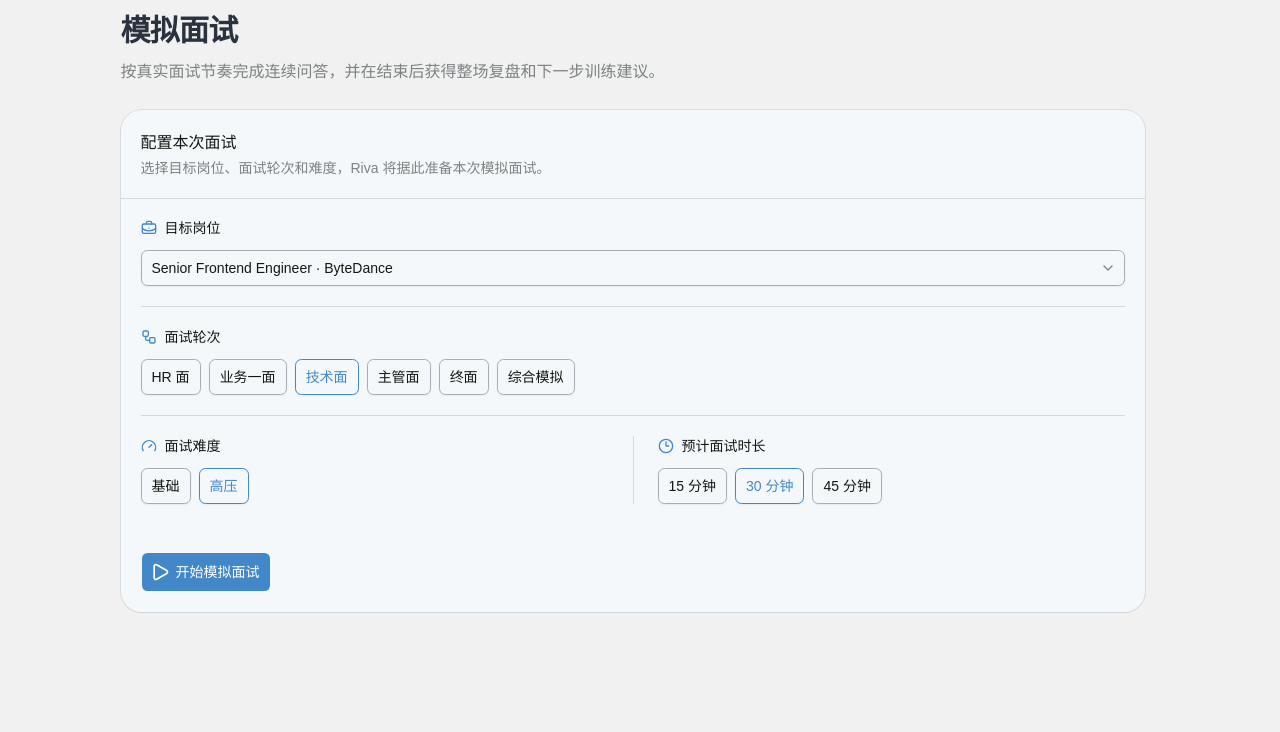
Test: InterviewView › updates available rounds when the selected service role changes
Click the dropdown with test id "interview-target-role-trigger" at x=272, y=268, box [140,250,1124,286]
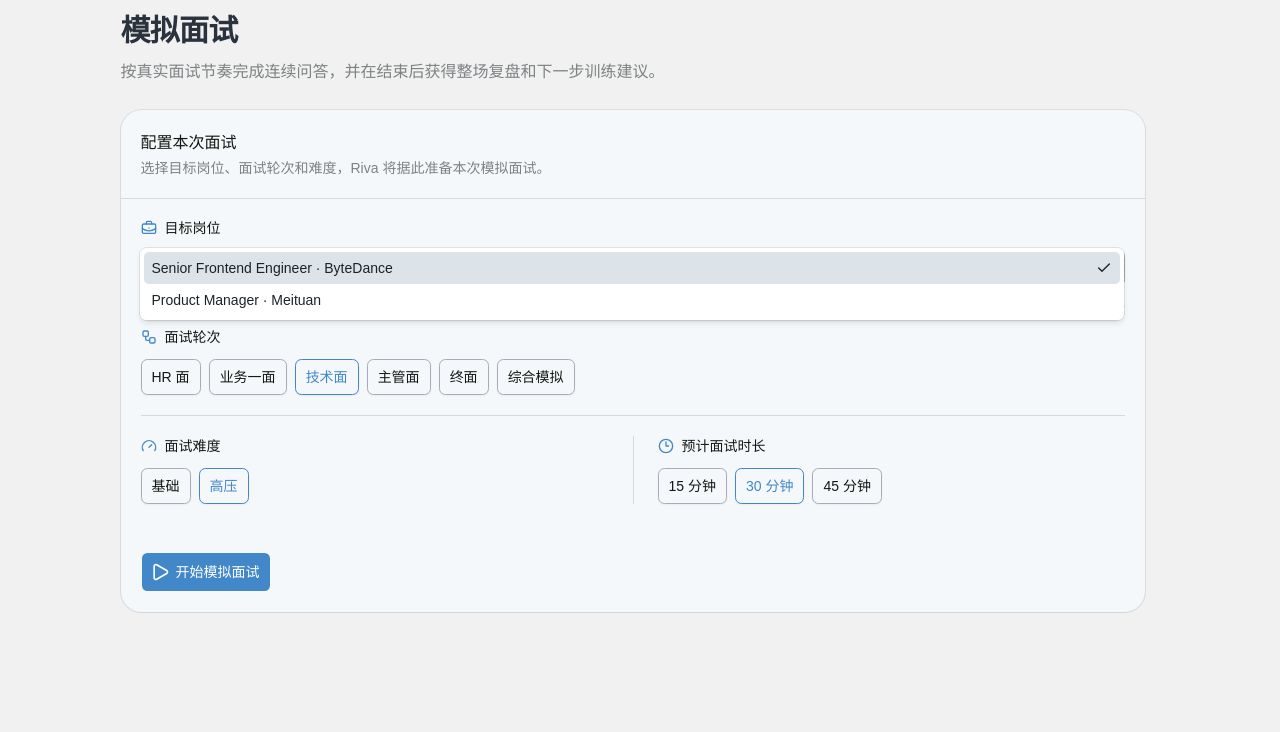
Click the option "Product Manager · Meituan" at x=236, y=300, box [152,292,321,308]
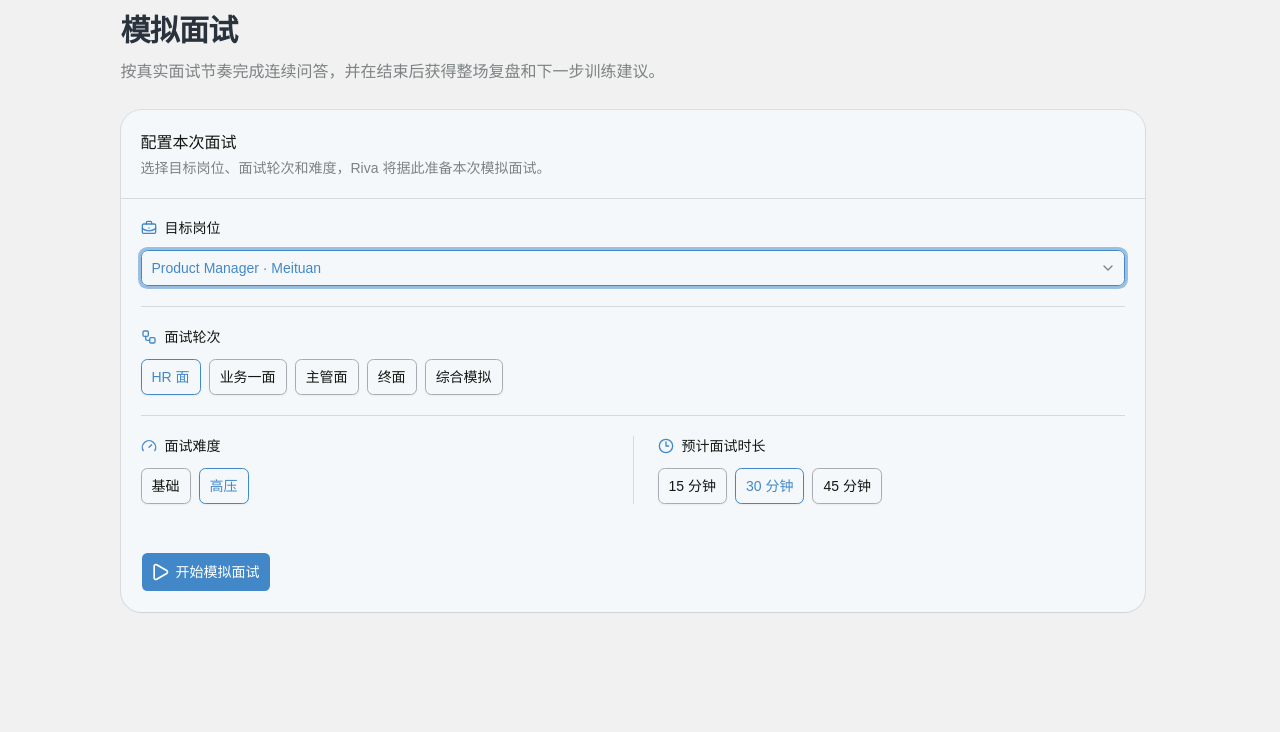
Now the button "技术面" is gone
